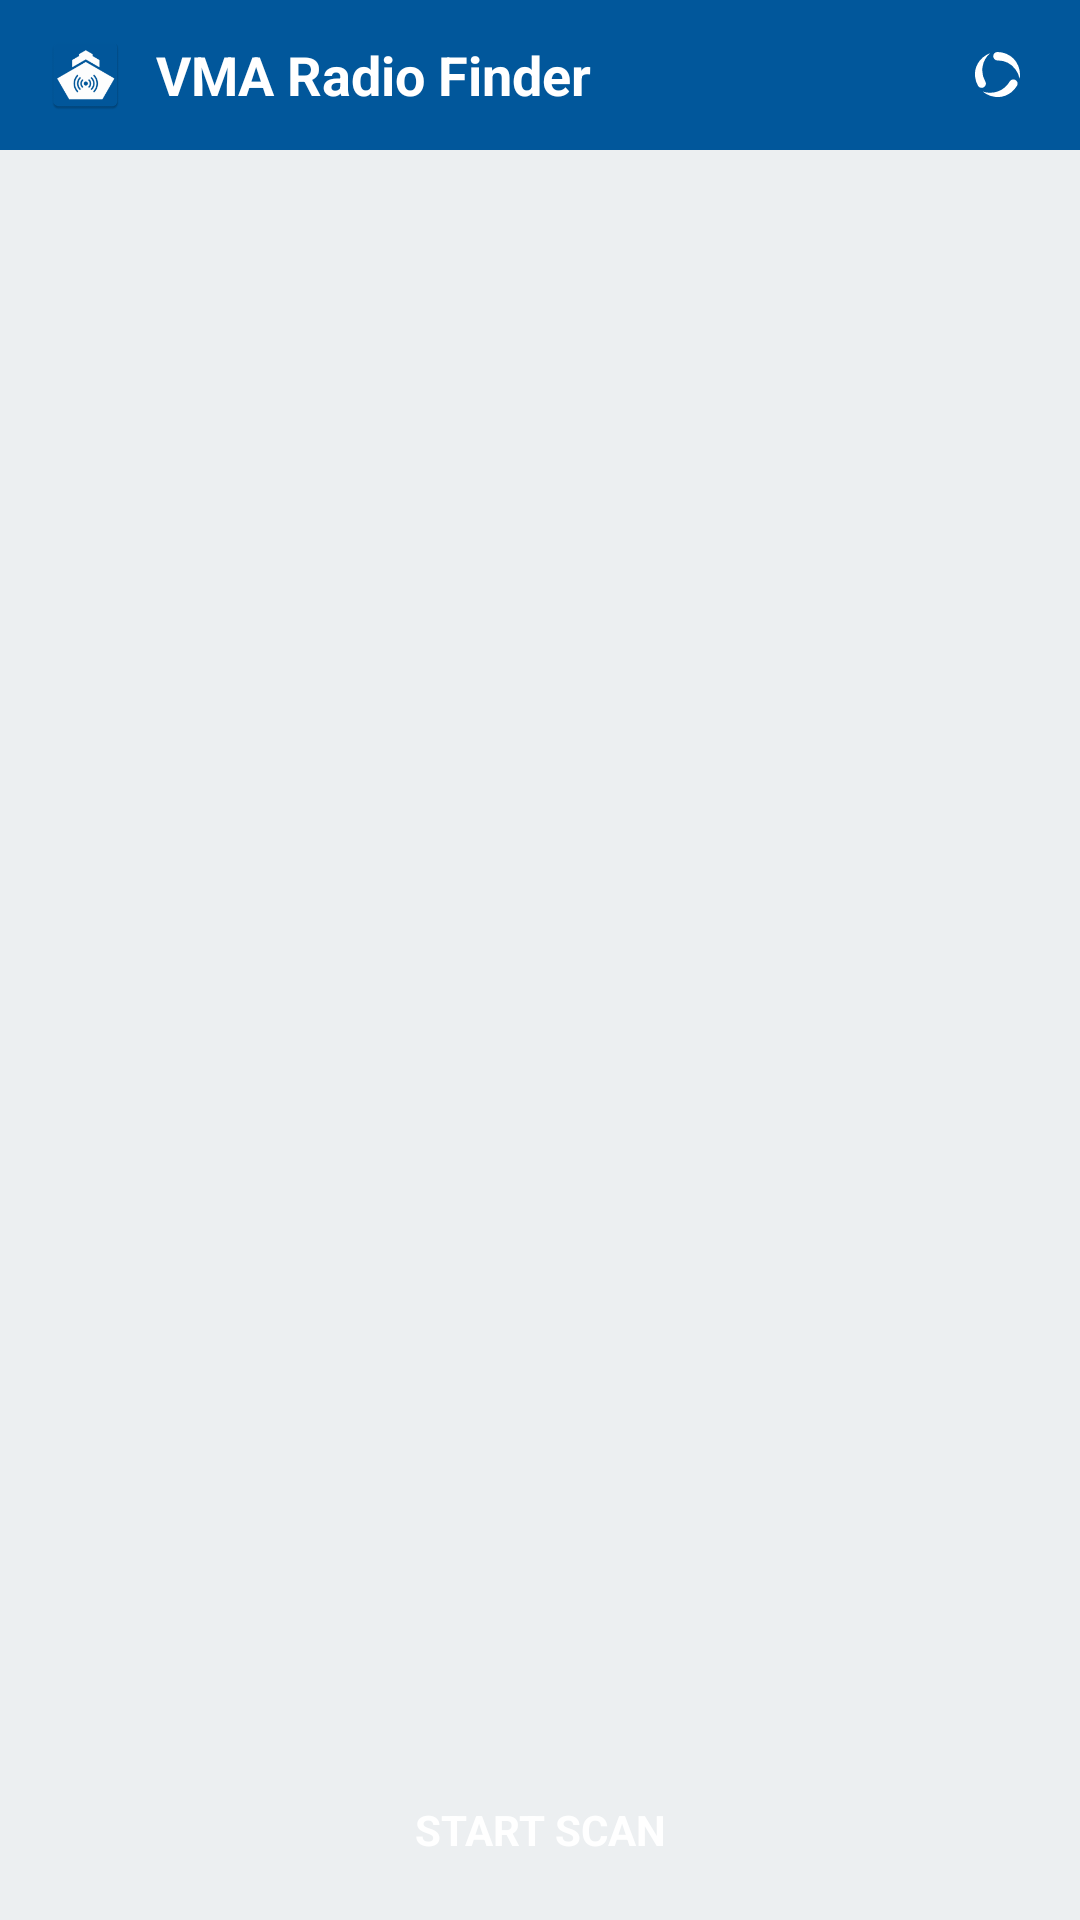

Icons on this 1080w x 1920h Android screen, each with its box as (x1, y1, x2, y2):
loadingflowccw: (975, 52, 1020, 97)
